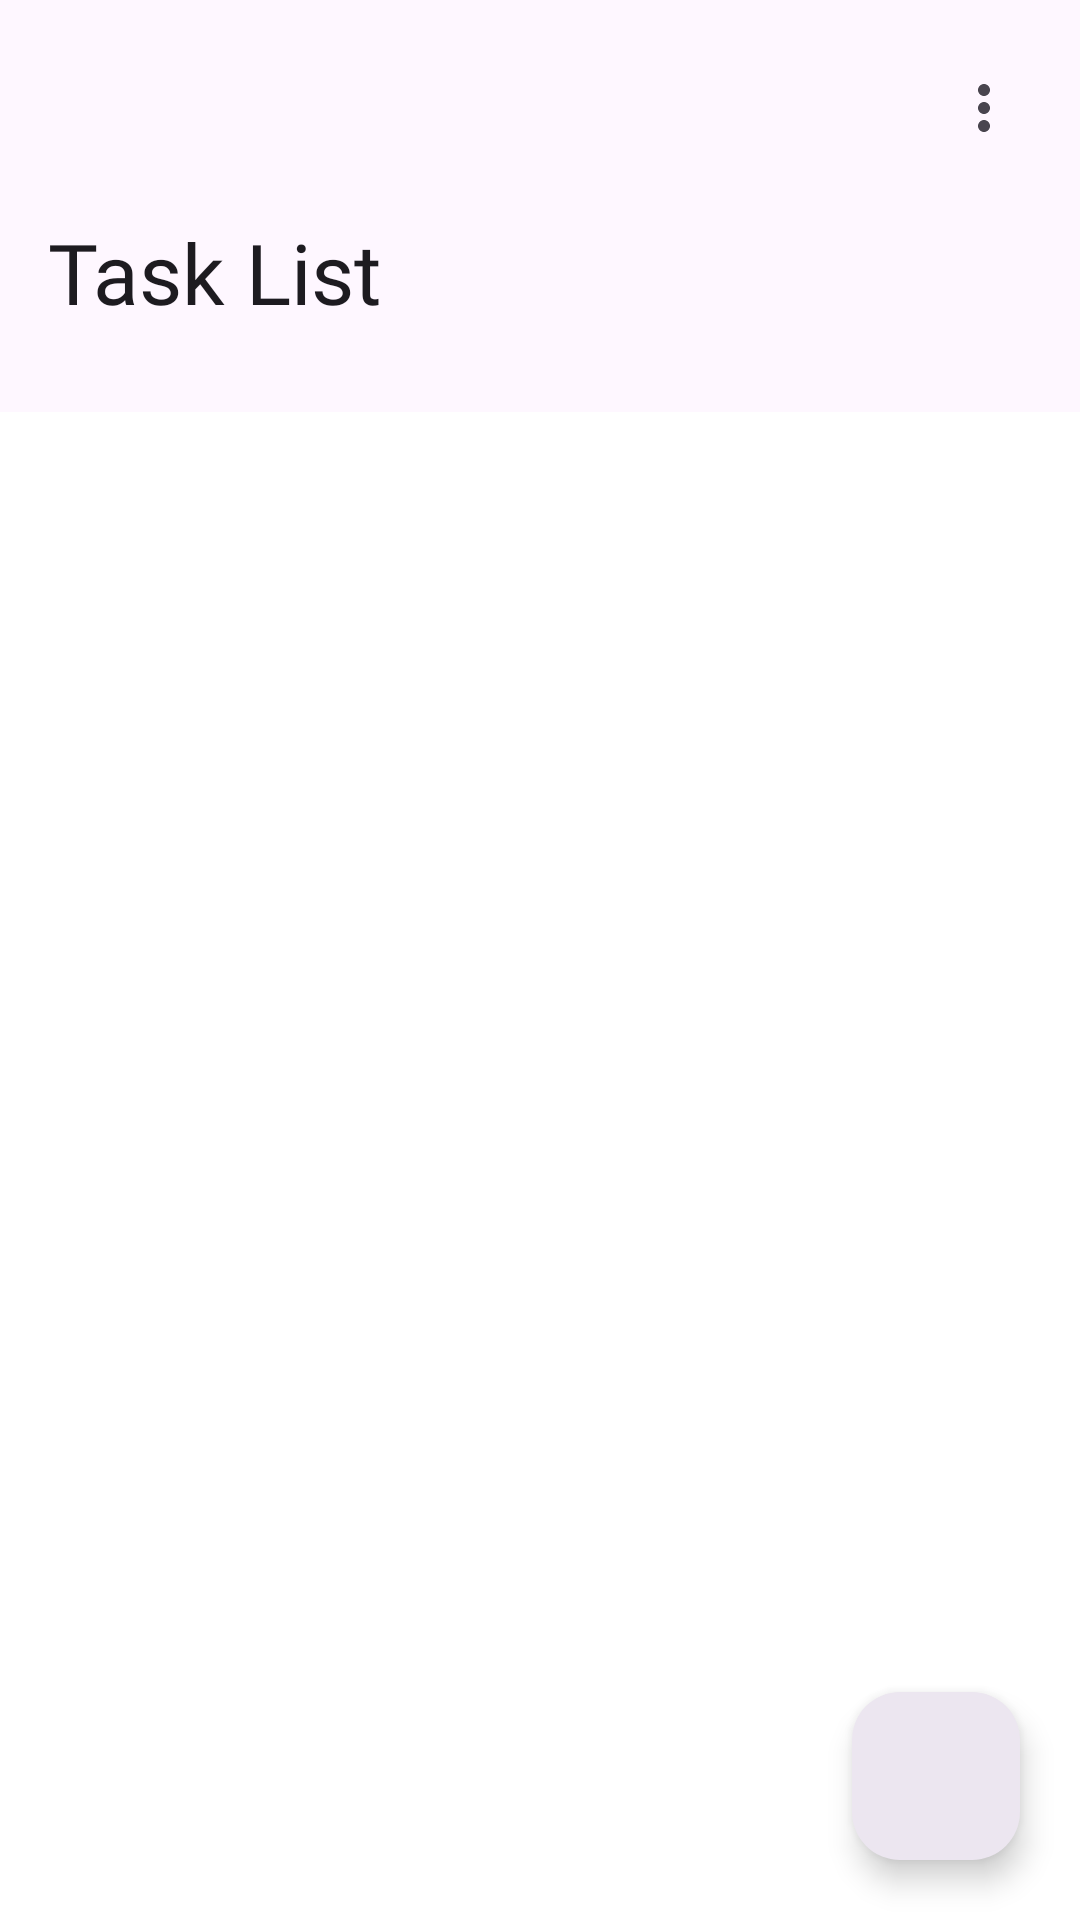

Named icons in this screenshot (1080px x 1920px) and their centers, [x,y]:
more vert: [984,108]
